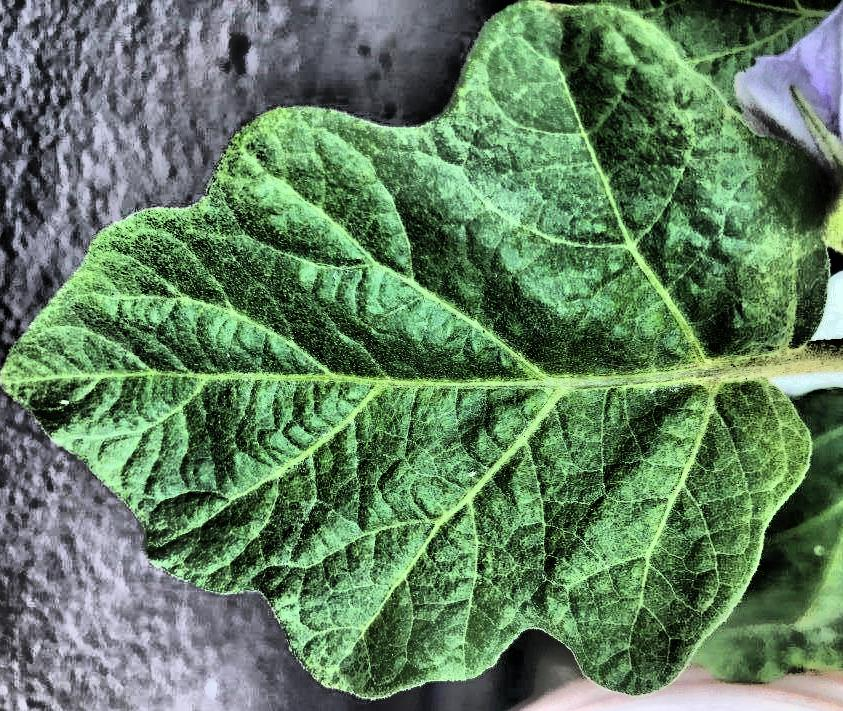HEALTHY: (1, 1, 843, 711)
